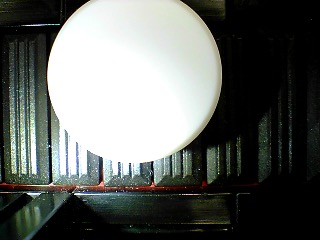BLANK: (47, 1, 223, 163)
